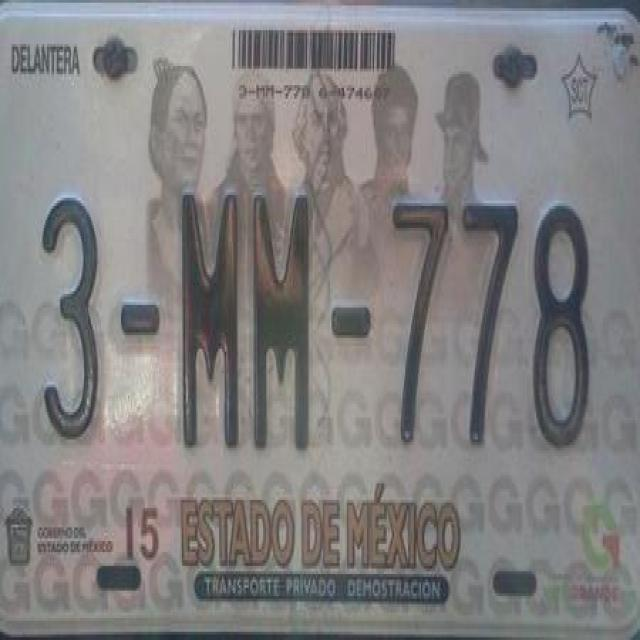placa: (0, 144, 639, 497)
